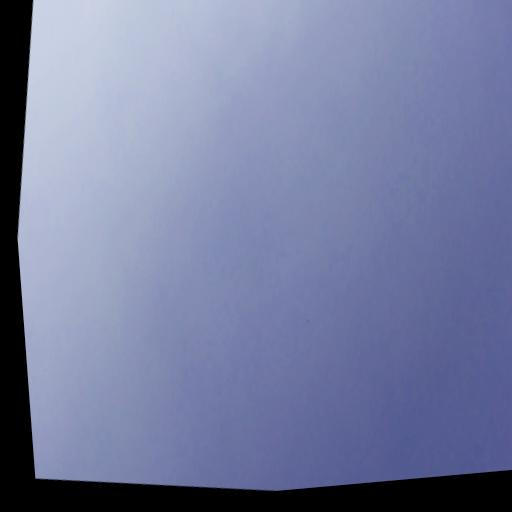drones: (305, 318, 310, 324)
